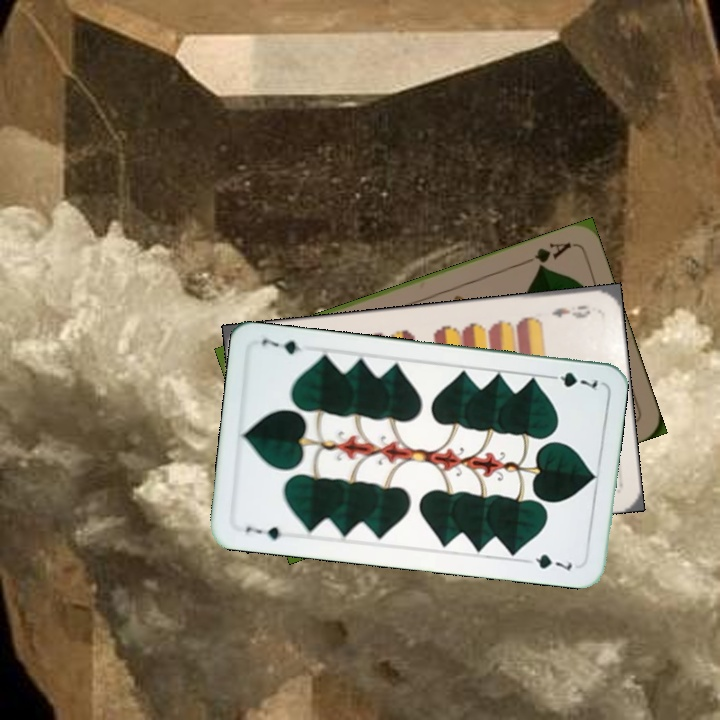E9: (547, 301, 593, 321)
G7: (543, 368, 601, 392), (242, 522, 284, 543)
GA: (518, 238, 574, 272)
